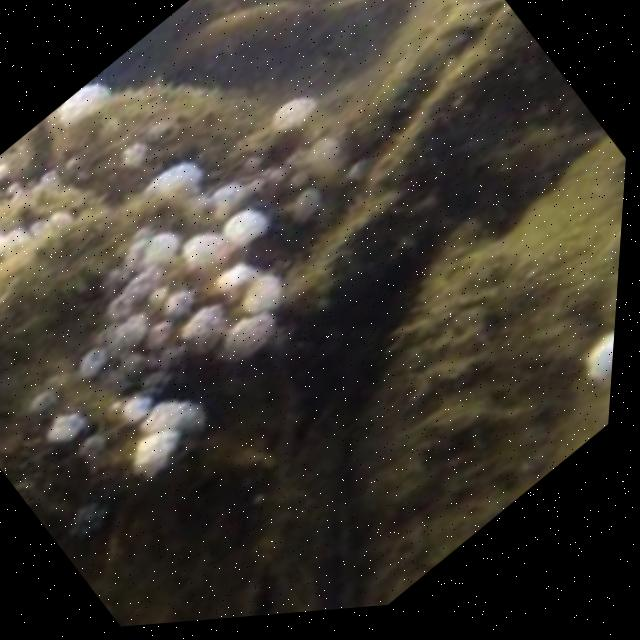Oyster-Closed: (283, 0, 537, 335), (214, 343, 356, 619)
Oyster-Indeterminate: (0, 77, 348, 627), (356, 130, 626, 608), (0, 176, 293, 529)
